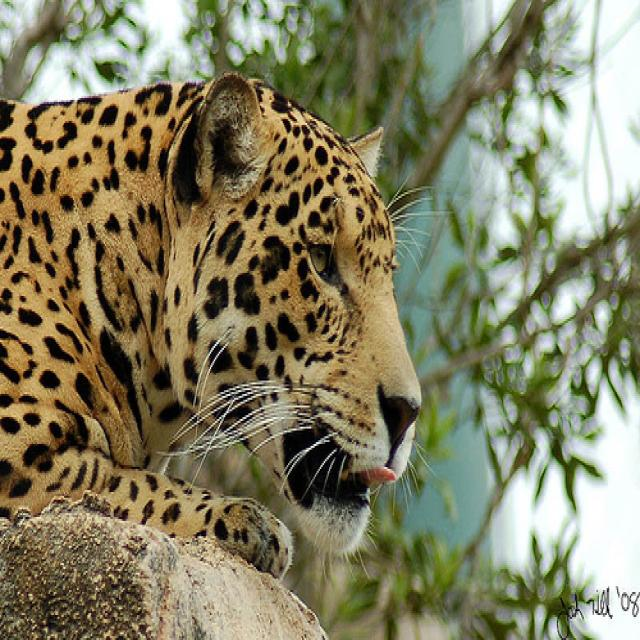Leopard: (0, 65, 422, 580)
